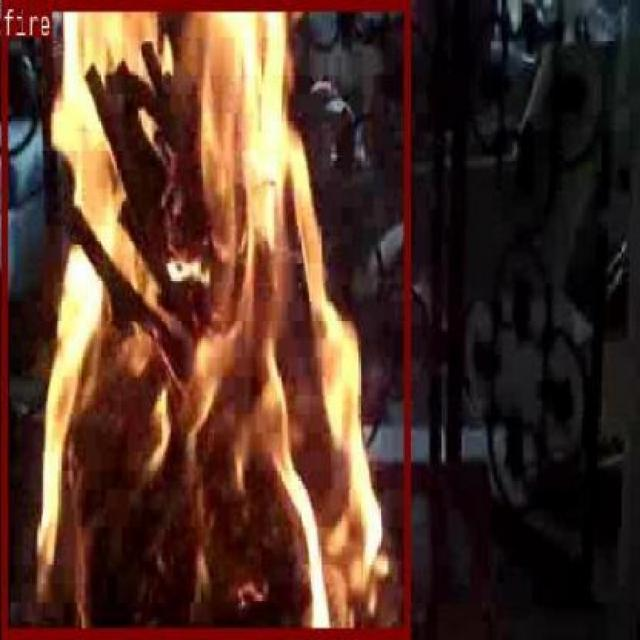Fire: (204, 318, 407, 635)
